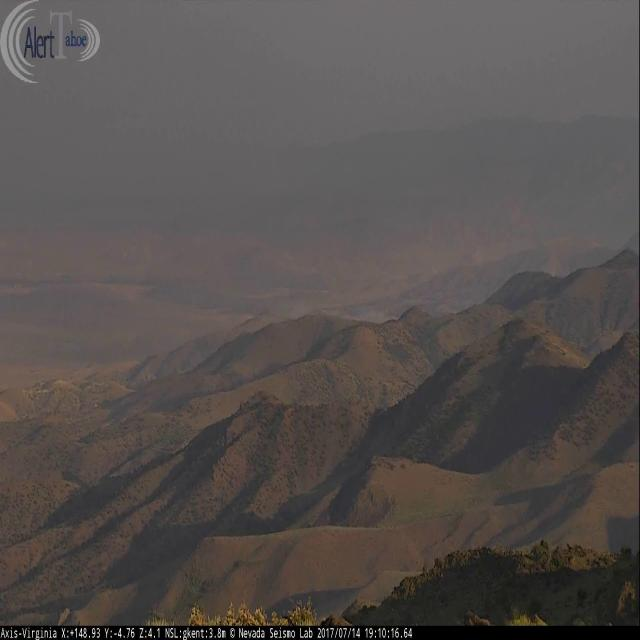smoke: (354, 309, 399, 325)
